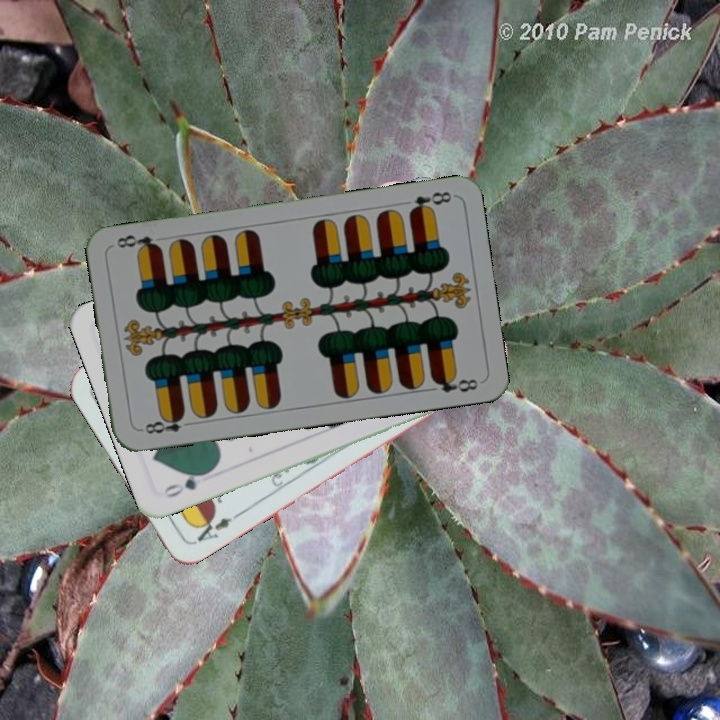E8: (136, 410, 196, 436), (405, 187, 455, 217)
EA: (190, 509, 242, 547)
GO: (160, 466, 214, 501)
